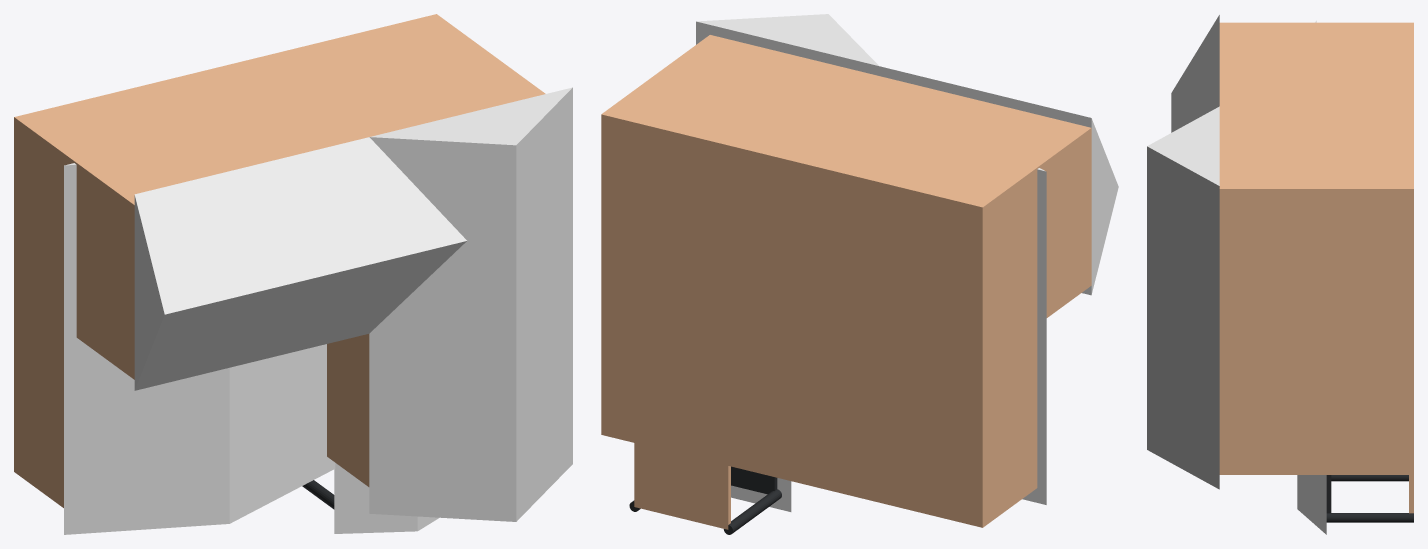
Rendered from tinker.obj.
3 views of the same model, side by side, from view 1: azimuth 30°, elevation 25°; view 2: azimuth 150°, elevation 25°; view 3: azimuth 270°, elevation 25° (orthographic). The views are drawn at different scales.
Visible parts, largest first — view 1: group_0_16448250, group_0_16500122; view 2: group_0_16500122, group_0_16448250, group_0_2829873; view 3: group_0_16500122, group_0_16448250, group_0_2829873.
Part boxes in pixels (box(x1,y1,x2,y2)): group_0_16448250: box(64, 87, 572, 534); group_0_16500122: box(14, 14, 545, 507); group_0_16500122: box(601, 35, 1091, 529); group_0_16448250: box(696, 14, 1118, 511); group_0_2829873: box(629, 466, 781, 534); group_0_16500122: box(1219, 22, 1413, 513); group_0_16448250: box(1147, 15, 1326, 534); group_0_2829873: box(1326, 475, 1413, 522).
Bounding box in the file's own units: 86 × 83 × 55.
